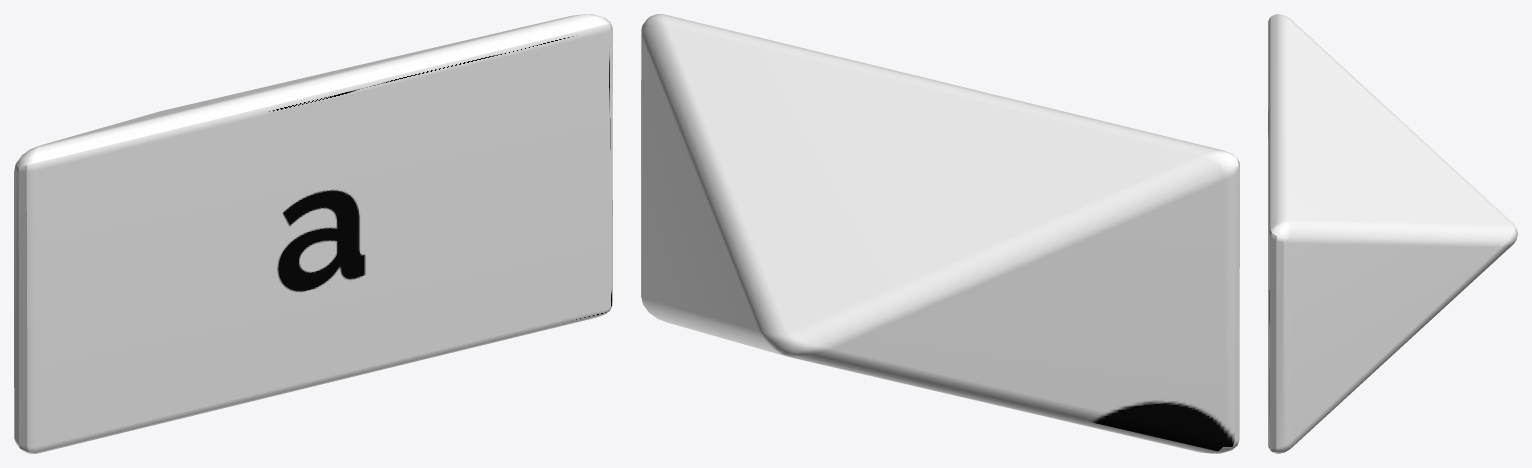
Rendered from SM_enter.fbx.
3 views of the same model, side by side, from view 1: azimuth 30°, elevation 25°; view 2: azimuth 150°, elevation 25°; view 3: azimuth 270°, elevation 25° (orthographic). The views are drawn at different scales.
Visible parts, largest first — view 1: pCube24; view 2: pCube24; view 3: pCube24.
Part boxes in pixels (box(x1,y1,x2,y2)): pCube24: box(14, 14, 612, 453); pCube24: box(641, 14, 1239, 453); pCube24: box(1268, 14, 1517, 453).
Bounding box in the file's own units: 2.15 × 1.05 × 1.03.
1 material, 1 textured.
